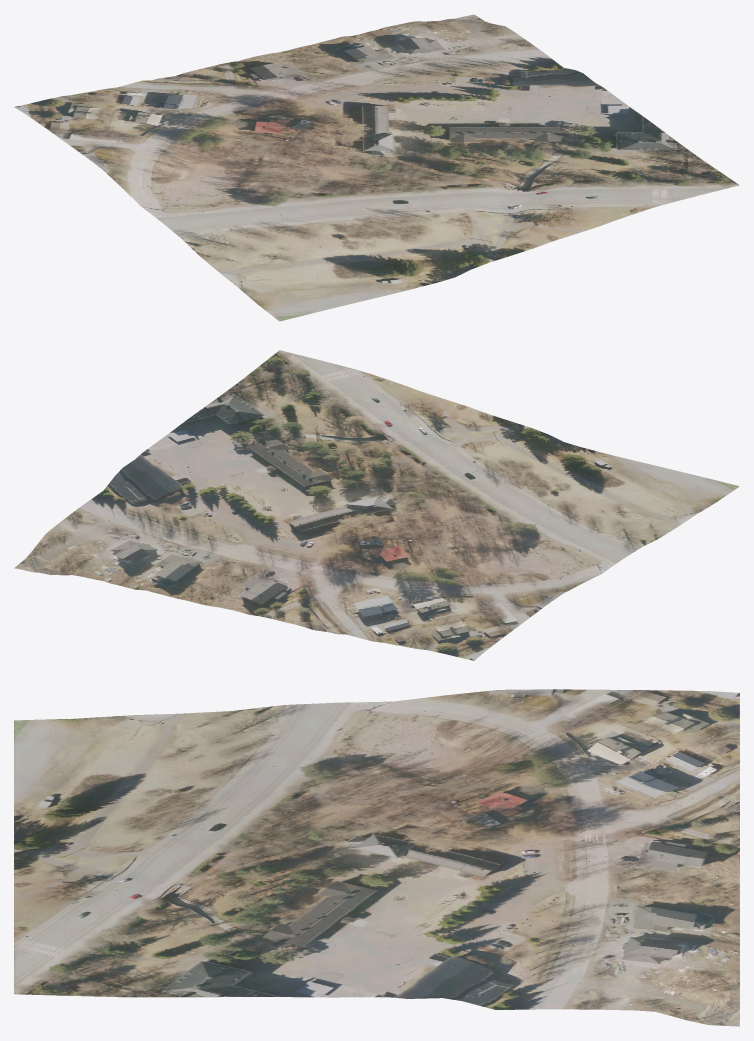
The model's file is CM_Terrain_24491482_6819589.fbx.
3 renders of one model, top to bottom at view 1: azimuth 30°, elevation 25°; view 2: azimuth 150°, elevation 25°; view 3: azimuth 270°, elevation 25°, orthographic. The views are drawn at different scales.
Parts seen in each view (by area): view 1: CM_Terrain_24491482_6819589_LOD0; view 2: CM_Terrain_24491482_6819589_LOD0; view 3: CM_Terrain_24491482_6819589_LOD0.
Part boxes in pixels (x1,y1,x2,y2): CM_Terrain_24491482_6819589_LOD0: [14, 14, 739, 321]; CM_Terrain_24491482_6819589_LOD0: [14, 350, 739, 660]; CM_Terrain_24491482_6819589_LOD0: [14, 689, 739, 1026].
Size of what is drawn, in the model's own units: 205 by 10.3 by 205.
